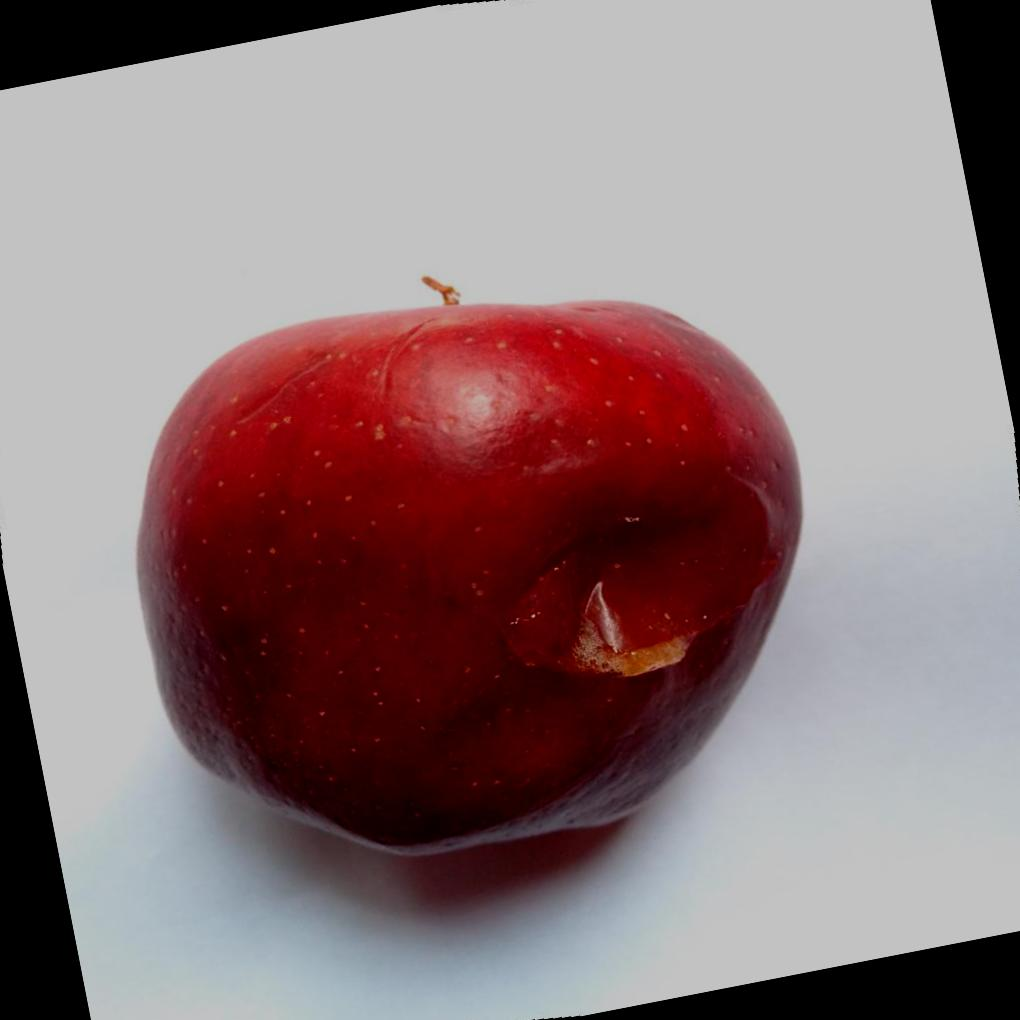FreshOrange: (129, 295, 800, 857)
